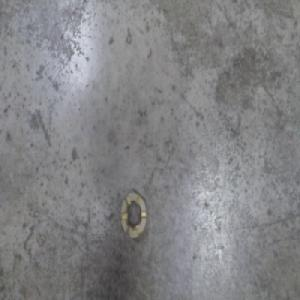Nut: (119, 186, 147, 241)
